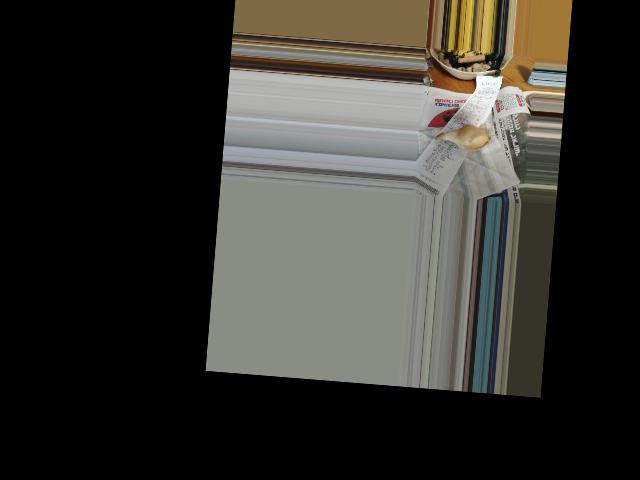onion: (453, 124, 490, 150)
